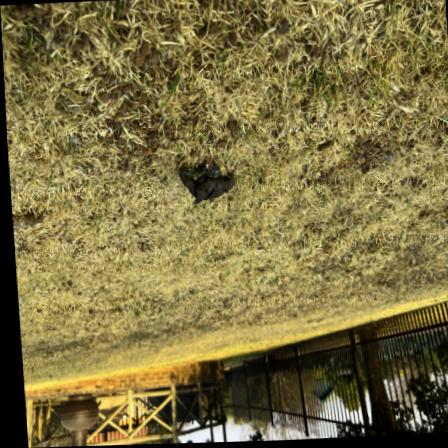dog-poop: (170, 148, 238, 209), (8, 203, 45, 235)
